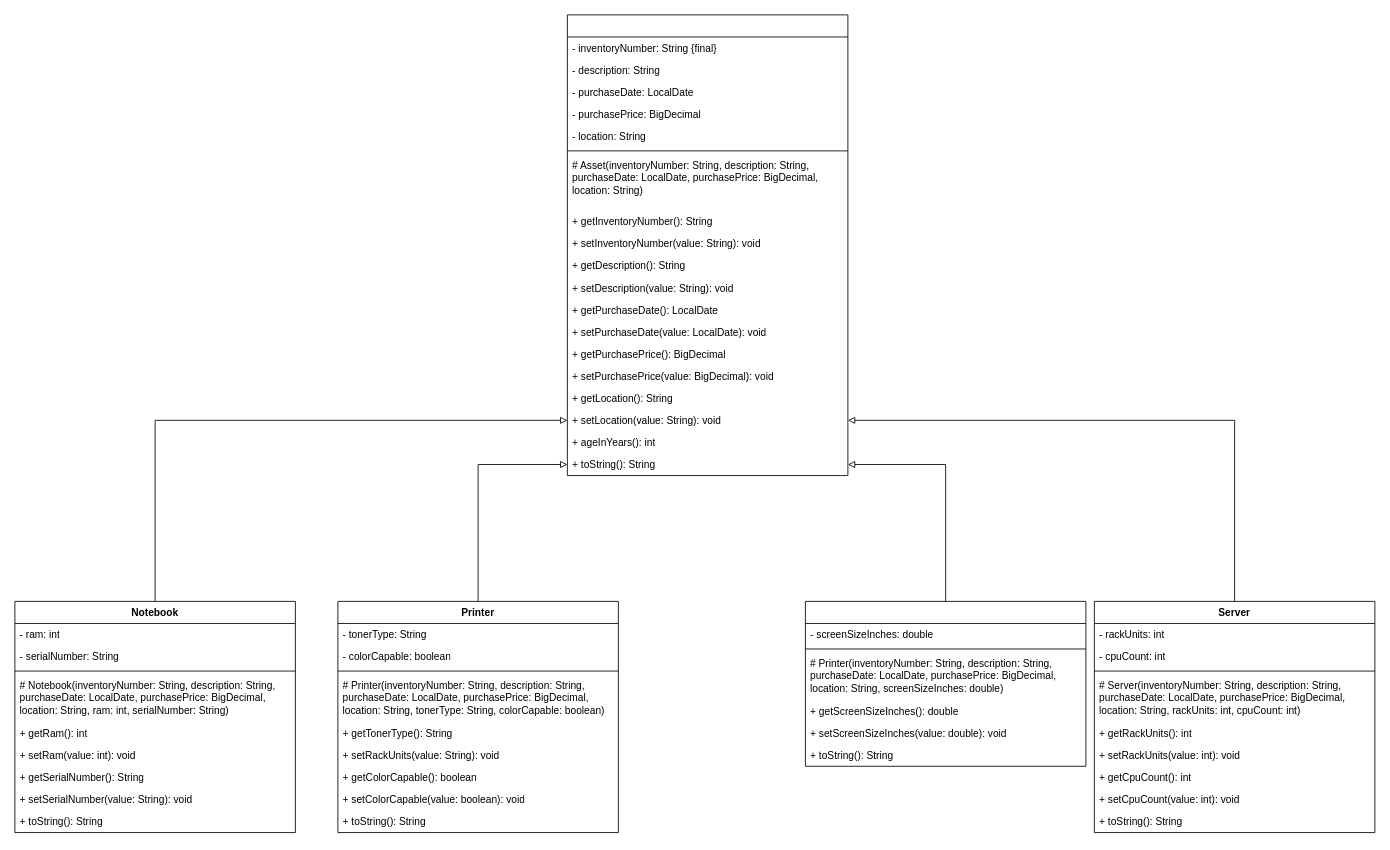
This 1390x850 diagram has some shape labels left out. Each missing label, with the box of its shape:
Asset {abstract}: (567, 14, 848, 476)
Monitor: (805, 601, 1086, 766)
